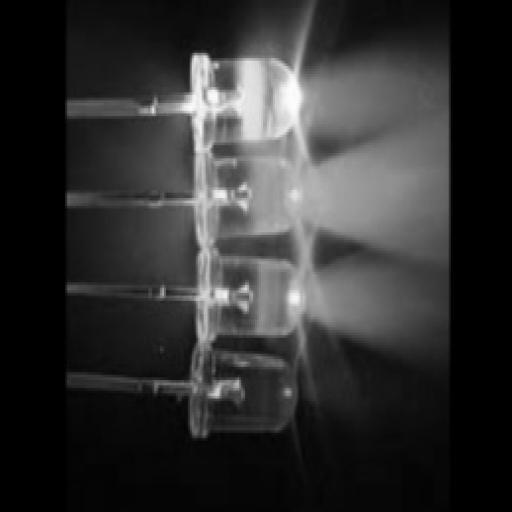LED: (148, 279, 312, 447), (169, 212, 318, 344), (169, 62, 310, 178), (196, 135, 322, 246)
